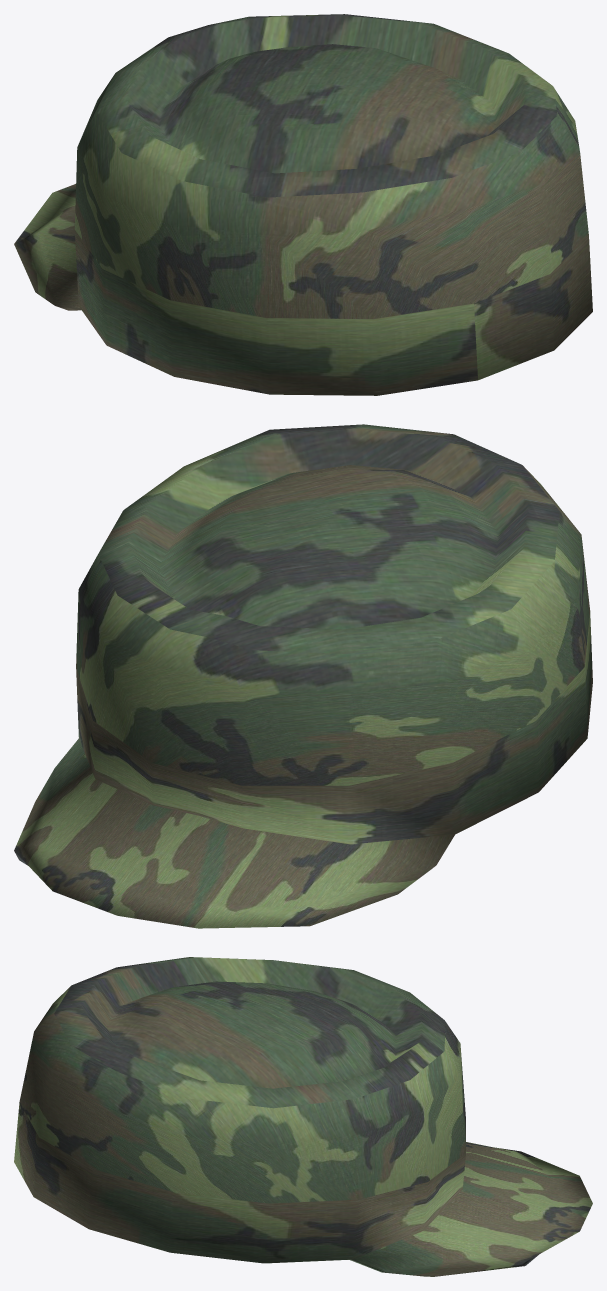
Rendered from M_RangerRollPatrolReversed.fbx.
3 views of the same model, one above another, from view 1: azimuth 30°, elevation 25°; view 2: azimuth 150°, elevation 25°; view 3: azimuth 270°, elevation 25° (orthographic). The views are drawn at different scales.
Visible parts, largest first — view 1: Circle; view 2: Circle; view 3: Circle.
Boxes of the visible parts, bbox=[...] form: Circle: bbox=[14, 14, 592, 395]; Circle: bbox=[14, 424, 592, 928]; Circle: bbox=[14, 957, 592, 1276].
Bounding box in the file's own units: 0.0784 × 0.138 × 0.1992.
